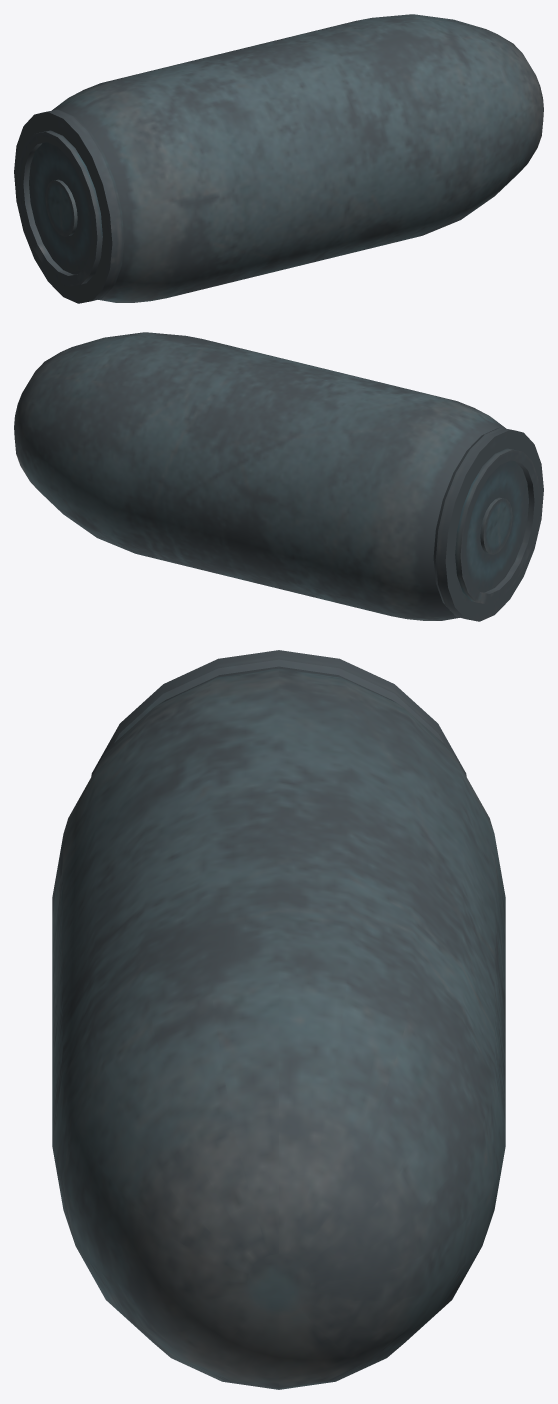
The model's file is SM_Missile_1.fbx.
3 views of the same model, one above another, from view 1: azimuth 30°, elevation 25°; view 2: azimuth 150°, elevation 25°; view 3: azimuth 270°, elevation 25° (orthographic). The views are drawn at different scales.
Parts seen in each view (by area): view 1: SM_Missile_1_LOD0; view 2: SM_Missile_1_LOD0; view 3: SM_Missile_1_LOD0.
Boxes of the visible parts, box(x1,y1,x2,y2) form: SM_Missile_1_LOD0: box(14, 14, 543, 303); SM_Missile_1_LOD0: box(14, 332, 543, 621); SM_Missile_1_LOD0: box(52, 650, 505, 1389).
Size of the model in its own units: 120 by 50 by 50.
Materials: 1 (1 with a texture image).
